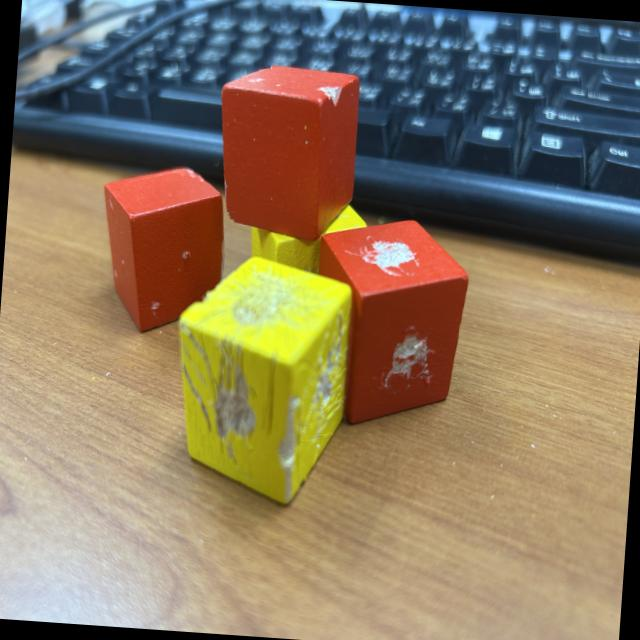broken: (166, 250, 354, 508), (307, 213, 472, 432), (210, 60, 362, 244), (94, 160, 231, 337), (242, 191, 370, 336)
